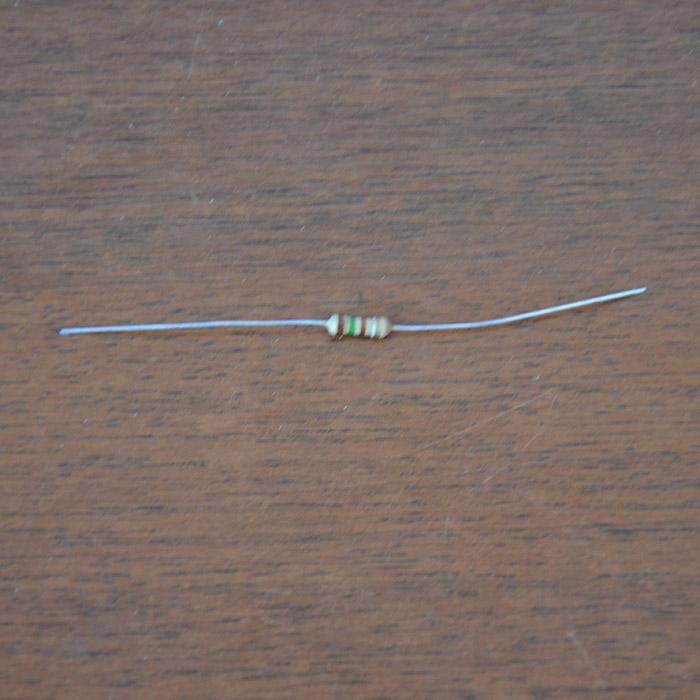resistor: (325, 312, 395, 340)
